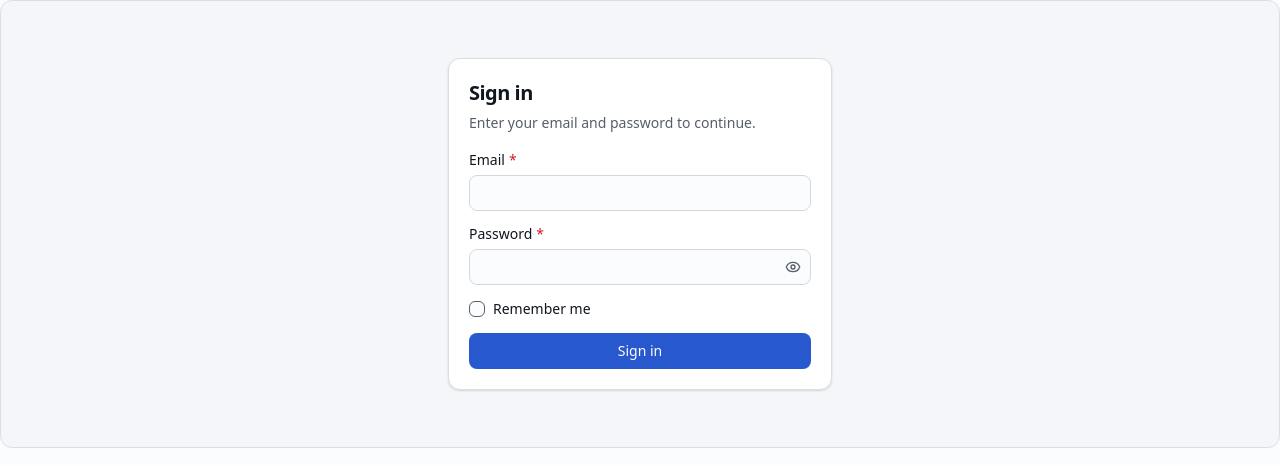
Scenario: SignInPage › shows and hides the password with the toggle
The image size is (1280, 465).
In the password field labelled "Password *": (640, 267) [469,249,811,285], type "example-secret"
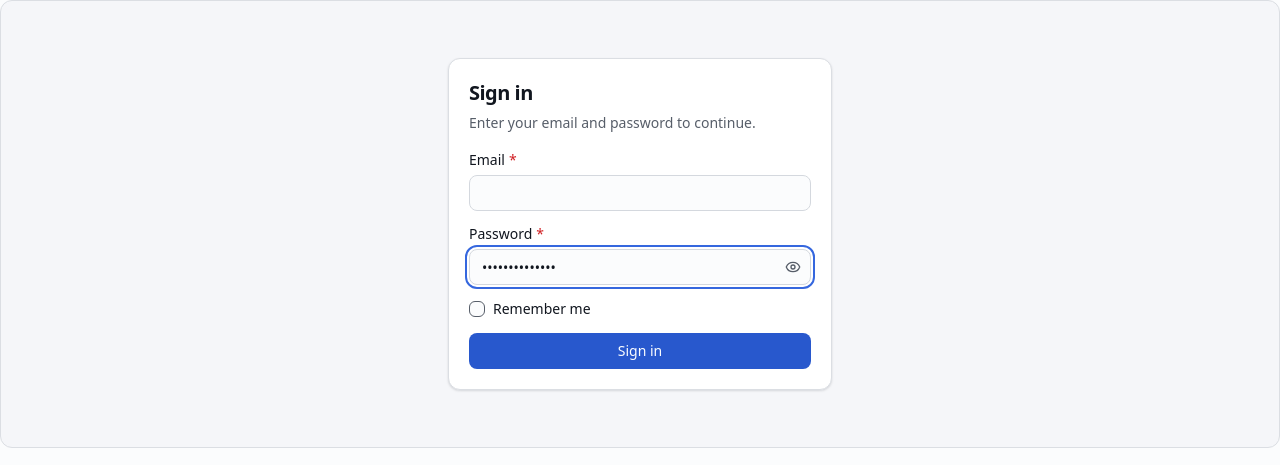
Click the button named "Show password": (793, 267) [775,249,811,285]
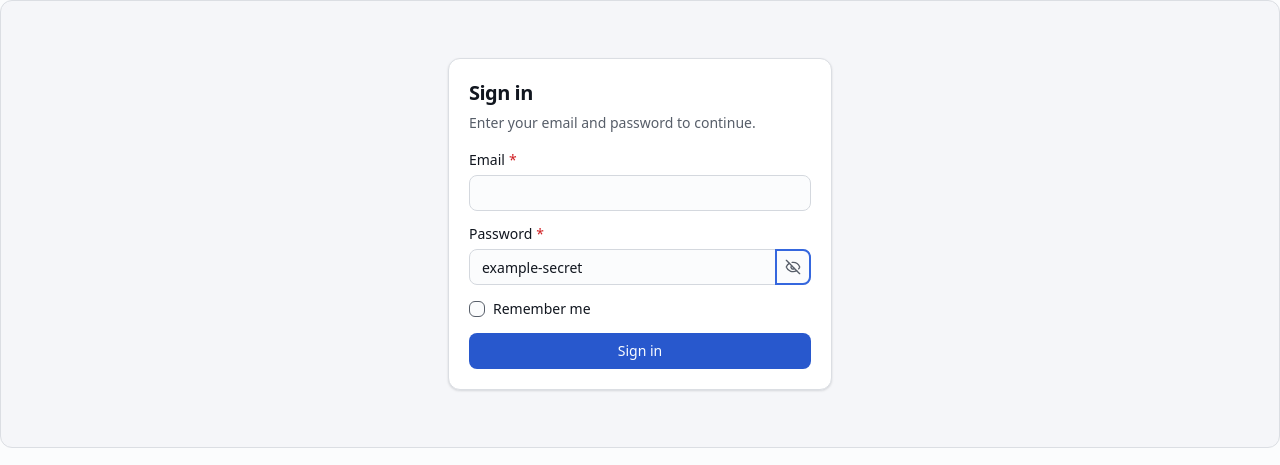
Expected: the field labelled "Password *" shows its text, [469,249,811,285]
